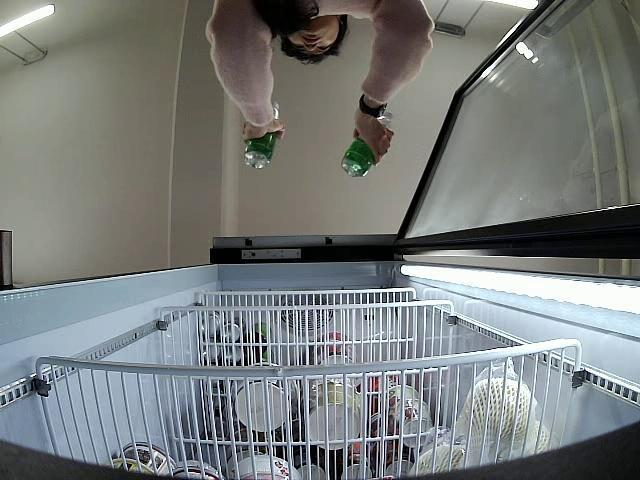18_trevi: (341, 111, 393, 178), (244, 103, 278, 168)
